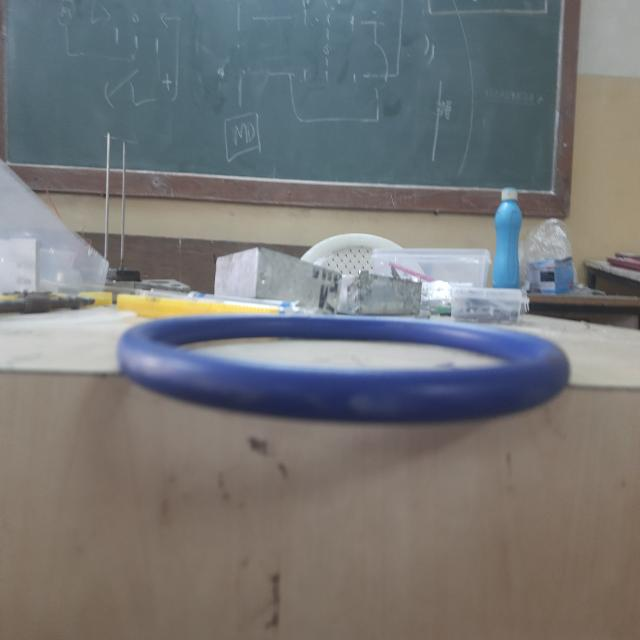daire: (124, 313, 569, 425)
